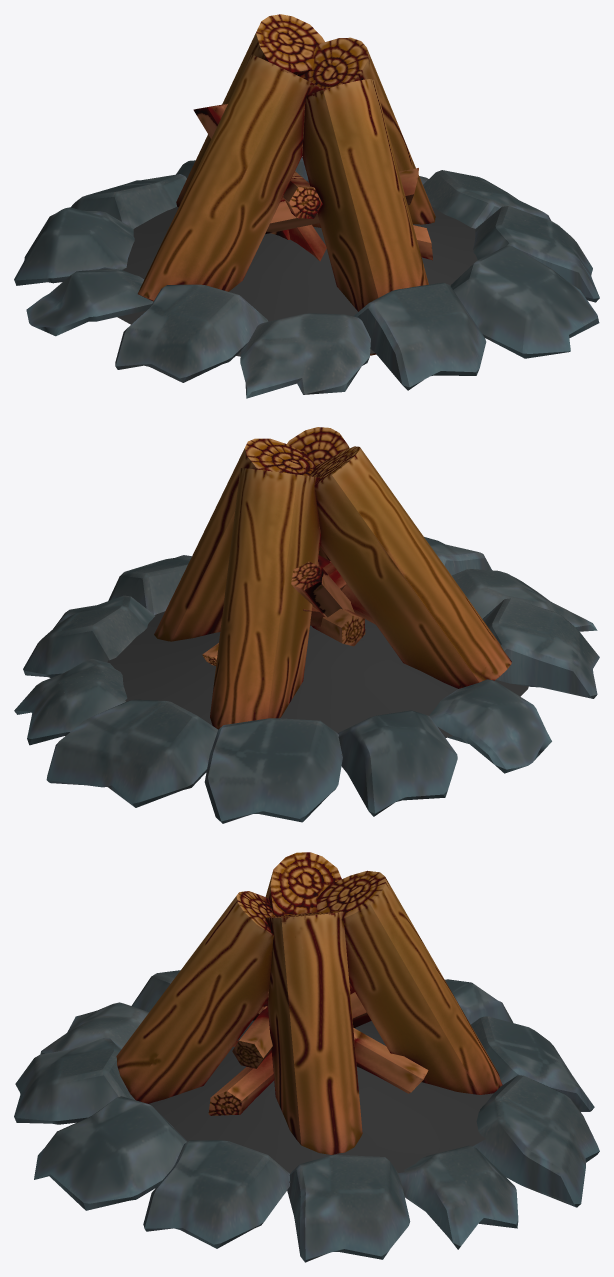
Rendered from bonfire.dae.
3 renders of one model, top to bottom at view 1: azimuth 30°, elevation 25°; view 2: azimuth 150°, elevation 25°; view 3: azimuth 270°, elevation 25°, orthographic.
Parts seen in each view (by area): view 1: palo1; view 2: palo1; view 3: palo1.
Part boxes in pixels (box(x1,y1,x2,y2)): palo1: box(14, 14, 599, 398); palo1: box(14, 427, 599, 823); palo1: box(14, 852, 599, 1262).
Size of the model in its own units: 6.42 by 6.42 by 3.29.
